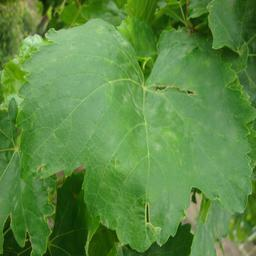Powdery-Mildew: (23, 26, 95, 93), (103, 126, 137, 172), (161, 32, 198, 68), (147, 123, 180, 154), (217, 115, 238, 148), (141, 219, 164, 248), (142, 101, 159, 118), (97, 23, 107, 33), (201, 58, 211, 68), (103, 78, 113, 88), (123, 95, 133, 105), (168, 99, 177, 109)
